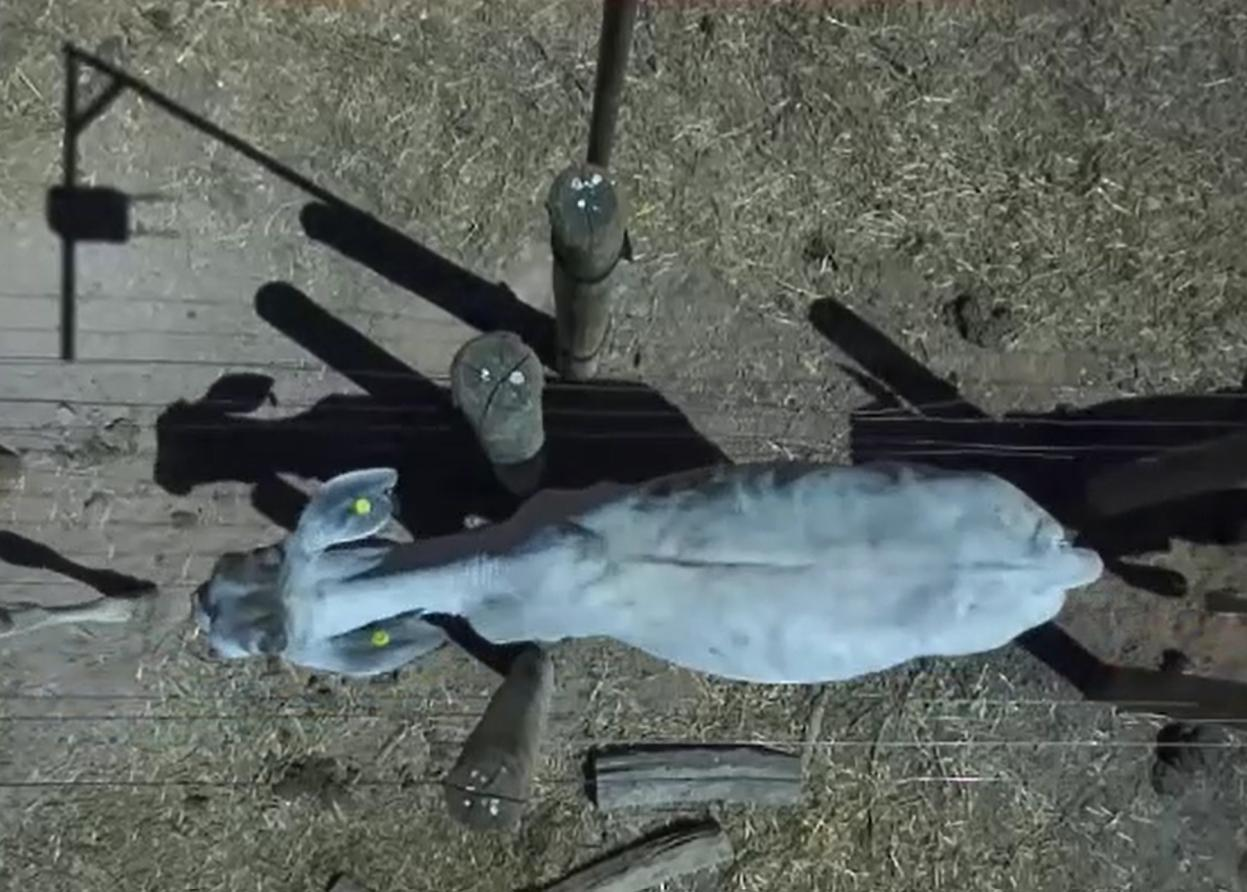cattle: (192, 452, 1105, 697)
